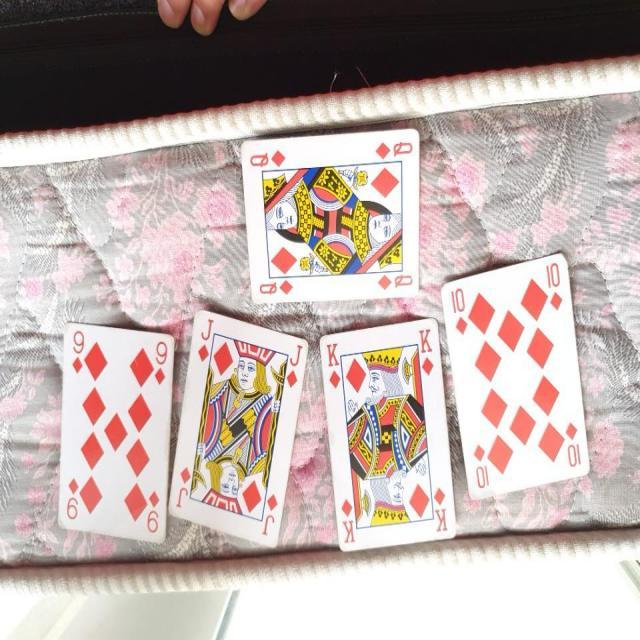10 of diamonds: (439, 251, 591, 504)
9 of diamonds: (58, 322, 176, 544)
jack of diamonds: (168, 308, 311, 552)
king of diamonds: (318, 317, 458, 553)
queen of diamonds: (238, 128, 422, 307)
